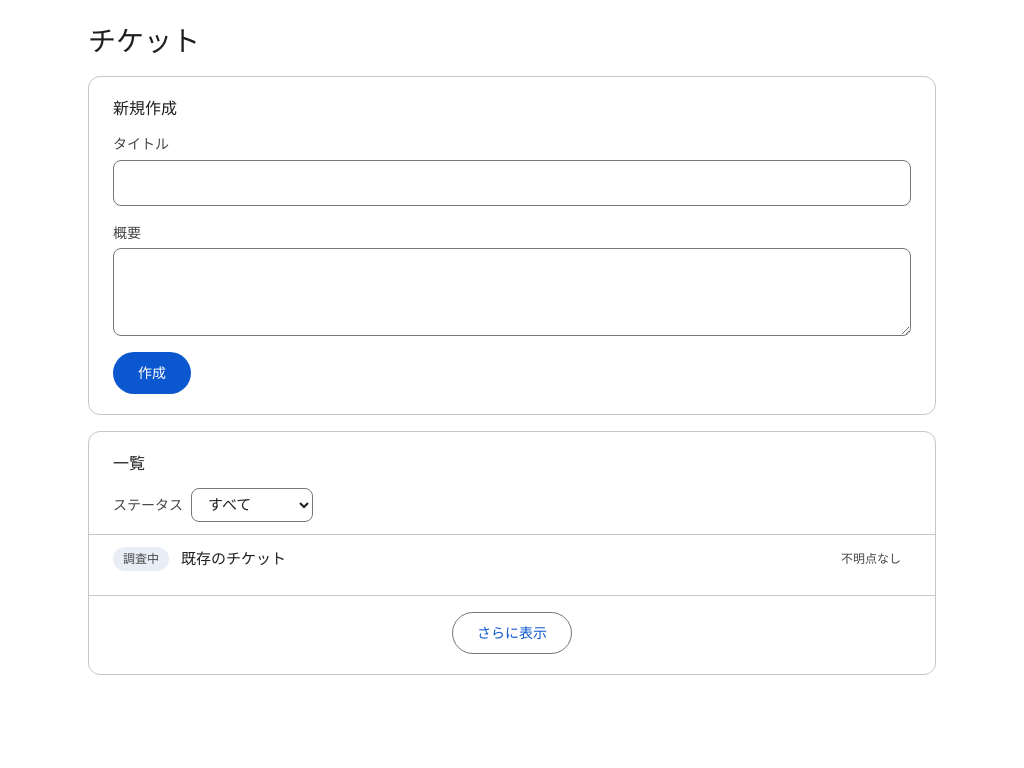
Test: 一覧の続き › 続きを読み込んでいる間に絞り込みを変えたら、届いた続きを新しい一覧に混ぜない
Click the button "さらに表示" at coordinates (512, 633), box [452, 612, 572, 654]
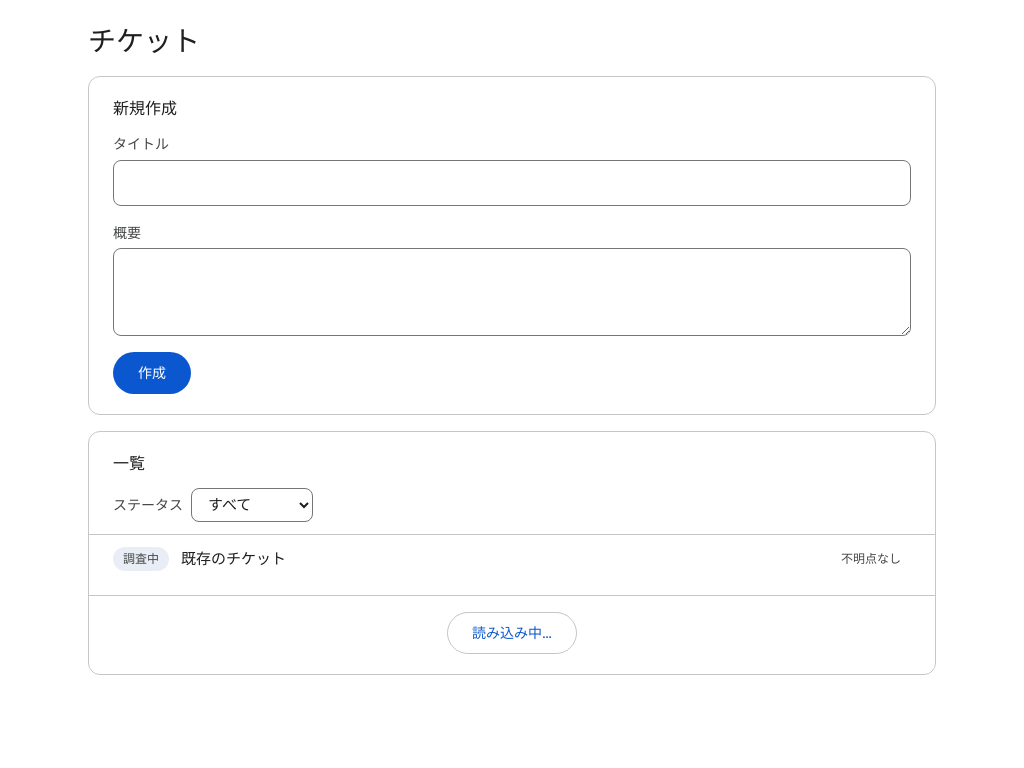
Select "完了" in the dropdown labelled "ステータス" at coordinates (252, 505), box [191, 488, 313, 522]
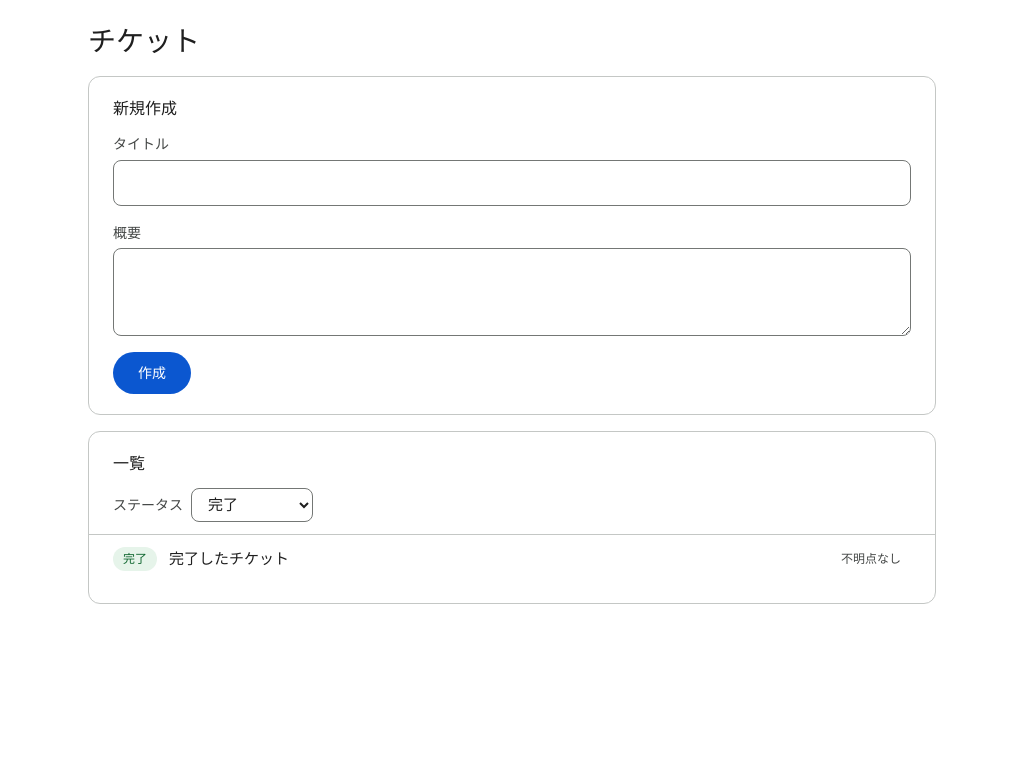
Expected: the number of list items is 1, [89, 534, 935, 583]
Expected: the link "完了したチケット" is shown, [169, 550, 289, 568]
